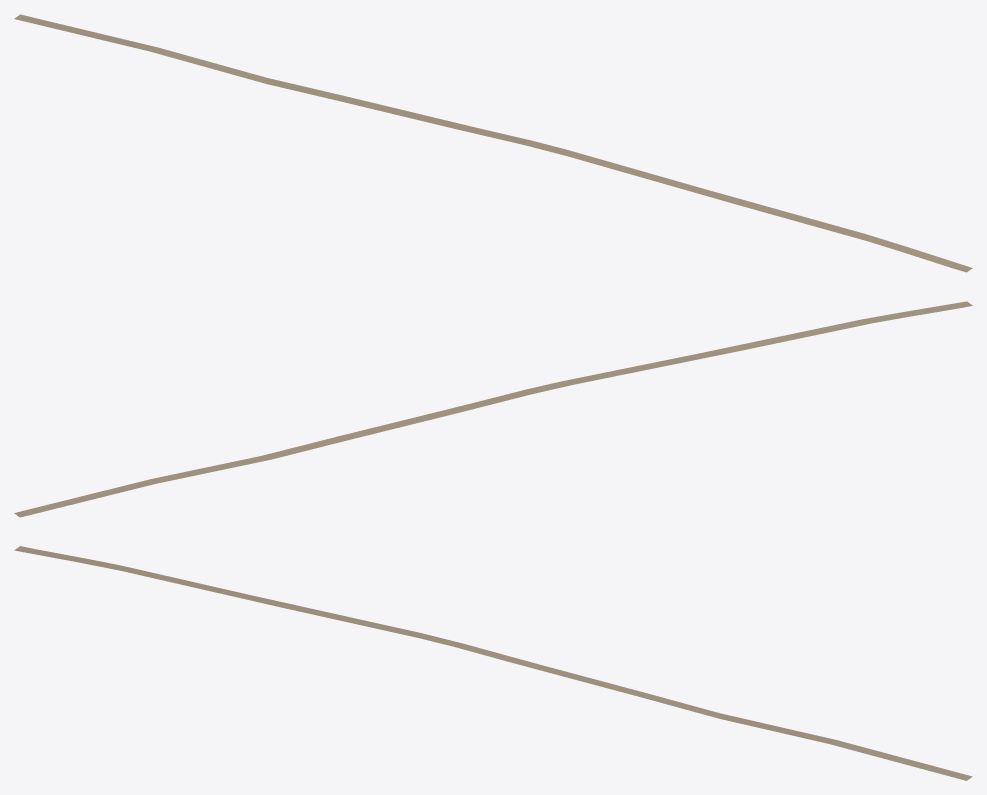
The model's file is farm_-27_-24_track.glb.
3 renders of one model, top to bottom at view 1: azimuth 90°, elevation 25°; view 2: azimuth 150°, elevation 25°; view 3: azimuth 270°, elevation 25°, orthographic. The views are drawn at different scales.
Parts seen in each view (by area): view 1: geometry_0; view 2: geometry_0; view 3: geometry_0.
Boxes of the visible parts, x1,y1,x2,y2 form: geometry_0: (14,14,972,272); geometry_0: (14,301,972,517); geometry_0: (14,546,972,780).
Bounding box in the file's own units: 156 × 4.55 × 256.
